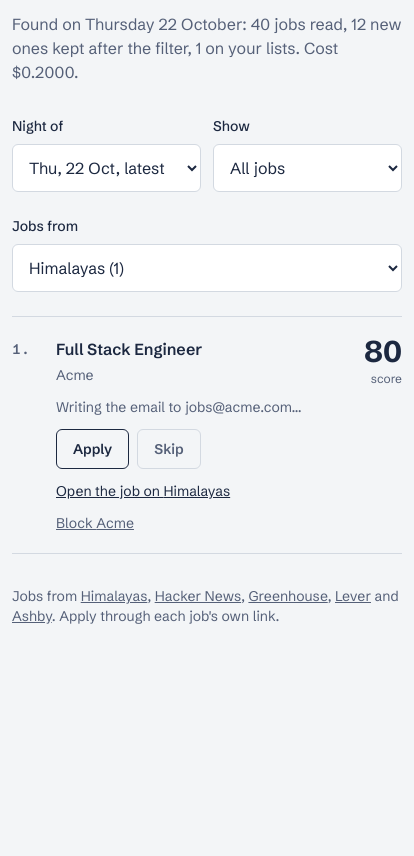
it: on a phone, one picker chooses the source instead of a tab per source
Select "Hacker News (0)" in the dropdown labelled "Jobs from" at (207,268), box [12,244,402,292]
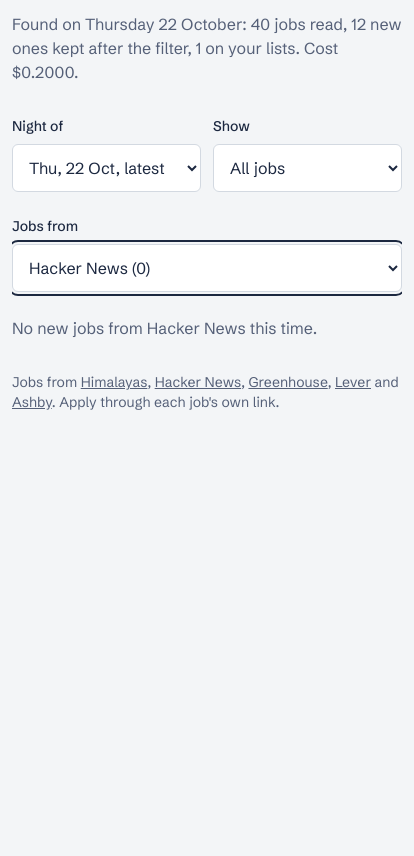
Now the text "No new jobs from Hacker News this time." is shown, box [12,318,317,338]
